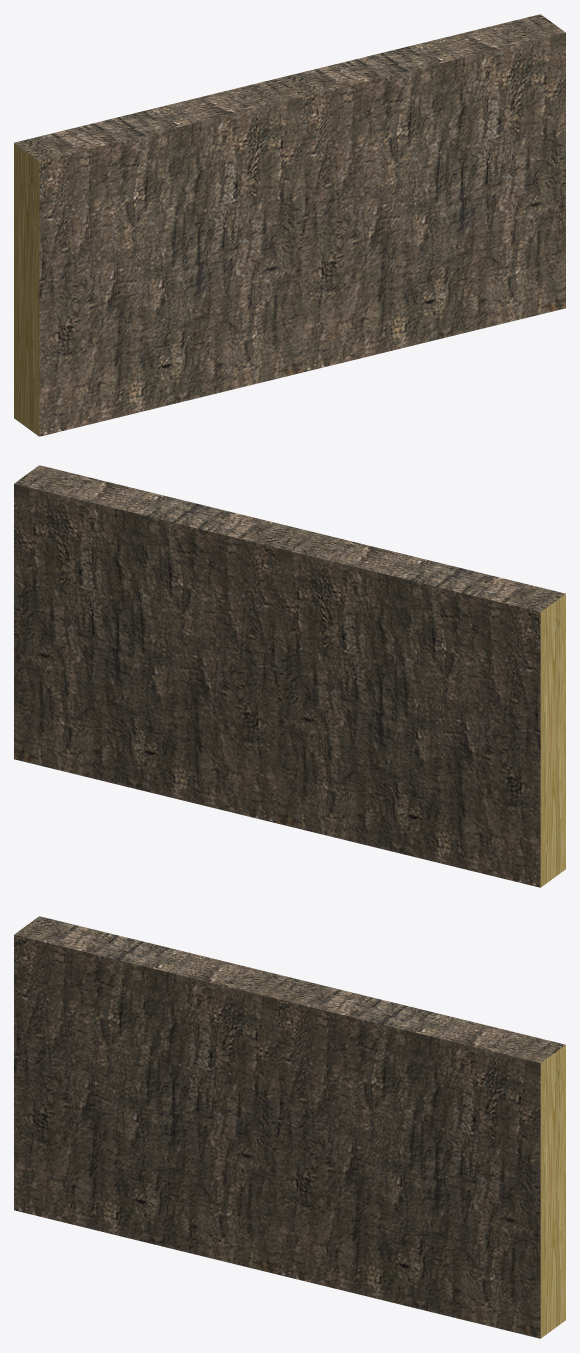
Rendered from construction_wood_wall_small_mesh_lod2.fbx.
The picture shows the model from 3 angles, top to bottom: view 1: azimuth 30°, elevation 25°; view 2: azimuth 150°, elevation 25°; view 3: azimuth 330°, elevation 25°; orthographic projection.
Parts seen in each view (by area): view 1: construction_wood_wall_small_mesh; view 2: construction_wood_wall_small_mesh; view 3: construction_wood_wall_small_mesh.
Boxes of the visible parts, box(x1,y1,x2,y2) form: construction_wood_wall_small_mesh: box(14, 14, 565, 436); construction_wood_wall_small_mesh: box(14, 465, 565, 887); construction_wood_wall_small_mesh: box(14, 916, 565, 1338).
Size of the model in its own units: 300 by 150 by 25.
